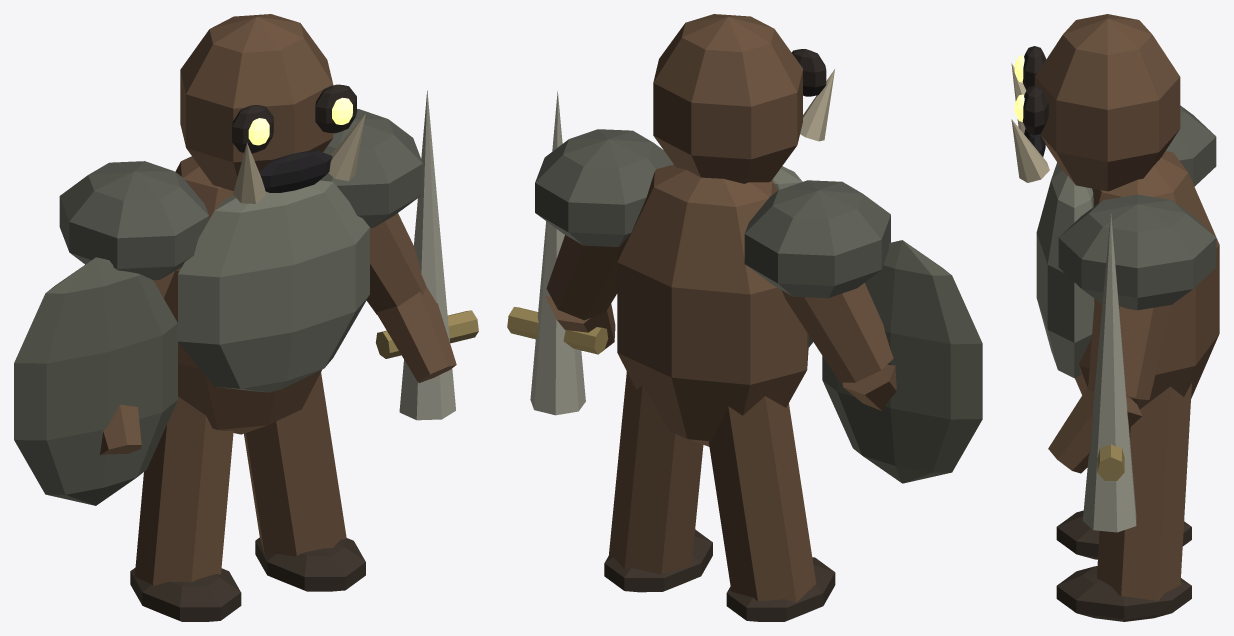
Rendered from fauna-orc_marauder.glb.
3 renders of one model, left to right at view 1: azimuth 30°, elevation 25°; view 2: azimuth 150°, elevation 25°; view 3: azimuth 270°, elevation 25°, orthographic. The views are drawn at different scales.
Parts seen in each view (by area): view 1: Fauna_orc_marauder; view 2: Fauna_orc_marauder; view 3: Fauna_orc_marauder.
Boxes of the visible parts, x1,y1,x2,y2 form: Fauna_orc_marauder: (14,14,478,621); Fauna_orc_marauder: (507,14,982,621); Fauna_orc_marauder: (1011,14,1219,621).
Size of the model in its own units: 1.58 by 1.88 by 0.6273.
